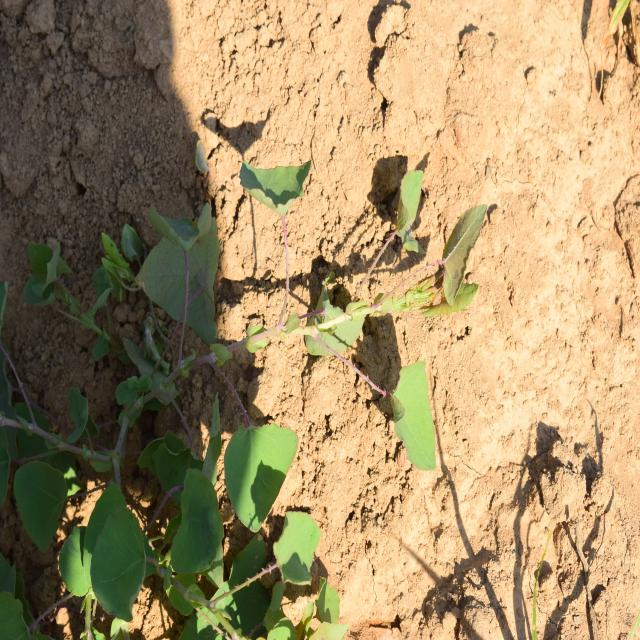Asiatic_Smartweed: (348, 155, 486, 483), (124, 152, 326, 322), (154, 396, 314, 605), (0, 441, 165, 621)
